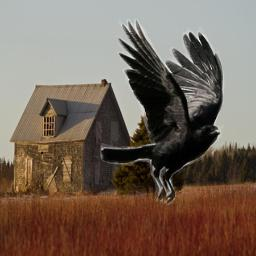Crow: (100, 19, 226, 209)
